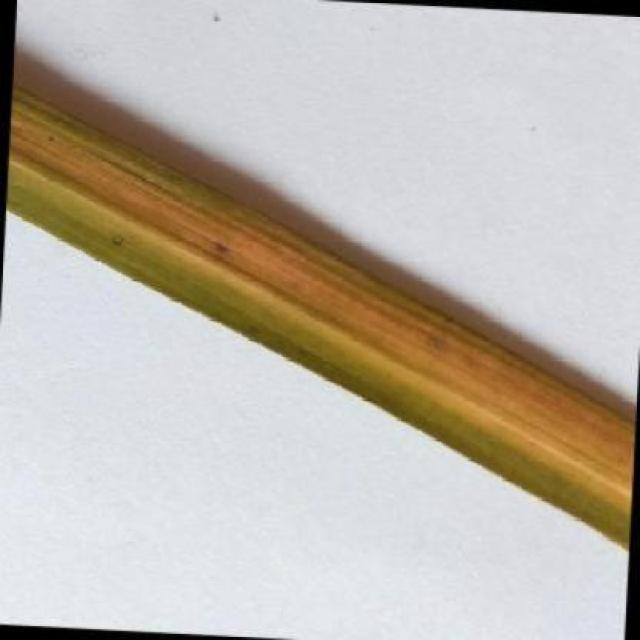Rice False Smut: (1, 70, 636, 544)
